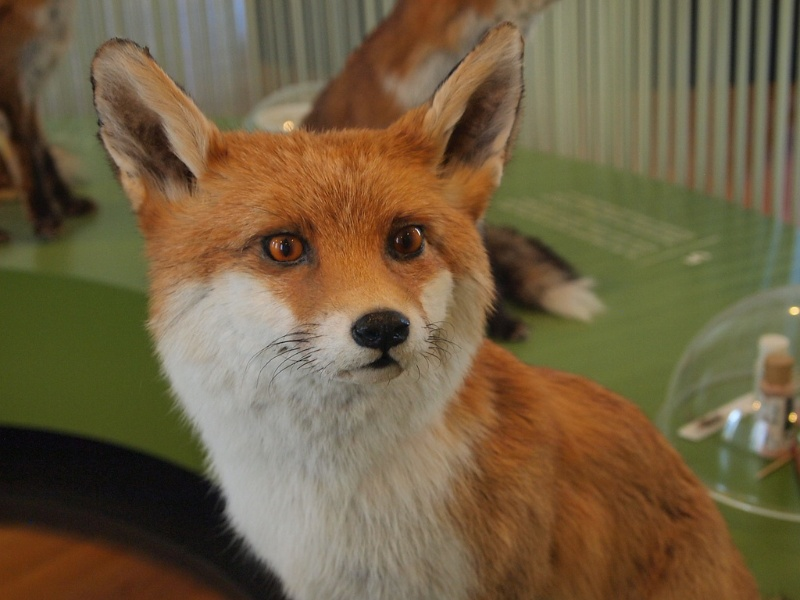fox: (84, 25, 760, 600)
